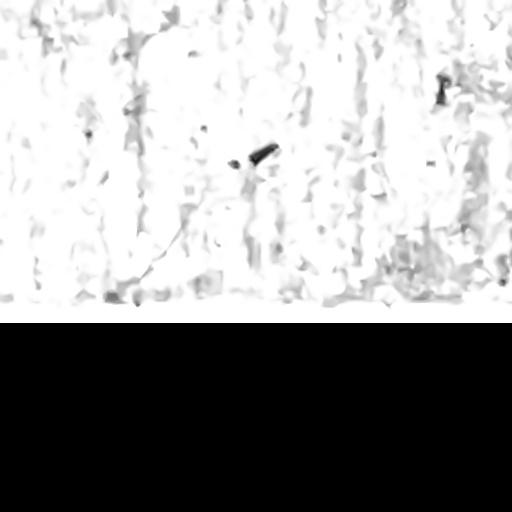egg: (249, 143, 279, 166), (435, 73, 451, 105)
